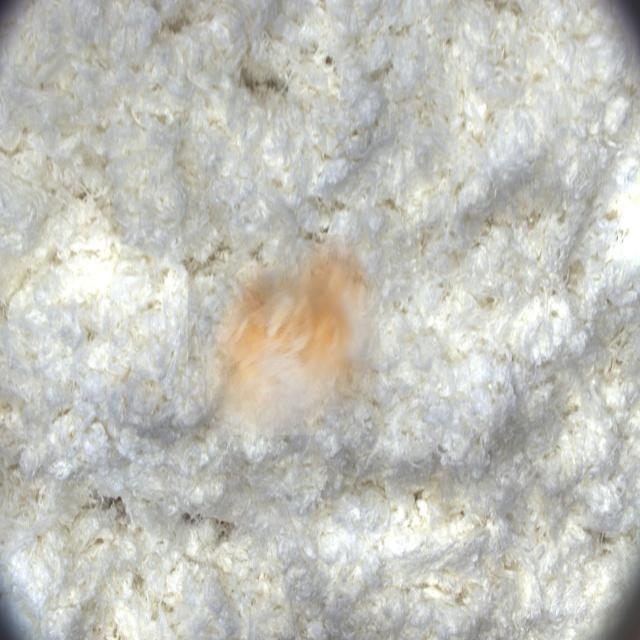dust: (188, 235, 379, 435)
